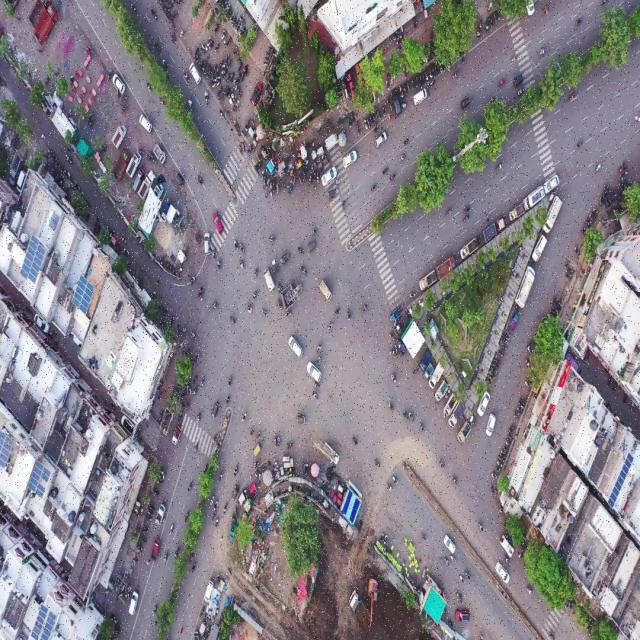3W: (251, 440, 266, 462), (294, 407, 307, 430), (174, 170, 189, 189), (459, 93, 473, 112), (325, 187, 339, 205), (305, 237, 318, 255), (512, 70, 525, 88), (280, 247, 292, 265), (210, 399, 221, 418), (230, 483, 240, 500)
Cars: (286, 337, 308, 362), (532, 234, 547, 266), (492, 561, 512, 584), (484, 412, 500, 438), (211, 208, 225, 237), (304, 361, 324, 381), (499, 534, 515, 557), (441, 534, 460, 553), (477, 391, 490, 416), (543, 174, 560, 193), (201, 228, 211, 260), (341, 149, 357, 168), (250, 82, 263, 105), (320, 168, 336, 186), (203, 578, 215, 602), (189, 62, 202, 84), (413, 88, 428, 107), (452, 608, 472, 622), (391, 88, 401, 116), (128, 590, 138, 617), (138, 114, 152, 133), (113, 74, 126, 94), (374, 130, 387, 149), (168, 169, 169, 170)
LCV: (515, 265, 537, 307), (544, 196, 564, 232), (138, 169, 154, 201), (523, 186, 545, 209), (436, 254, 455, 279), (323, 442, 340, 466), (429, 362, 443, 391), (449, 403, 465, 428), (458, 238, 477, 259), (418, 270, 437, 291), (434, 378, 450, 402), (317, 279, 333, 303), (150, 538, 164, 565), (127, 151, 141, 177), (153, 141, 167, 164), (155, 498, 166, 527), (458, 420, 471, 444), (112, 123, 127, 143), (394, 315, 409, 335), (418, 350, 432, 370), (264, 268, 276, 291), (443, 394, 455, 416), (509, 203, 525, 219), (507, 313, 519, 332), (325, 133, 338, 150), (389, 307, 402, 323), (395, 338, 407, 355), (172, 426, 182, 446), (424, 364, 434, 380)
M2W: (566, 90, 577, 104), (194, 409, 202, 427), (536, 47, 548, 59), (442, 555, 452, 569), (199, 372, 206, 392), (573, 16, 583, 30), (232, 461, 240, 478), (327, 319, 336, 333), (350, 434, 360, 446), (497, 76, 507, 88), (455, 592, 464, 605), (228, 314, 237, 327), (511, 54, 520, 67), (373, 458, 381, 472), (195, 172, 202, 188), (154, 42, 162, 56), (146, 80, 154, 94), (168, 521, 175, 537), (151, 602, 158, 618), (309, 226, 319, 237), (385, 481, 394, 493), (313, 343, 322, 355), (401, 137, 410, 149), (389, 171, 398, 183), (547, 628, 556, 640), (438, 456, 445, 471), (417, 419, 424, 434), (183, 510, 190, 525), (201, 460, 208, 475), (458, 572, 466, 585), (450, 475, 458, 488), (311, 381, 321, 391), (575, 141, 585, 151), (268, 234, 277, 245), (444, 208, 453, 219), (464, 570, 472, 582), (450, 554, 458, 566), (227, 374, 233, 390), (217, 470, 225, 482), (409, 410, 416, 423), (346, 309, 353, 322), (246, 302, 253, 315), (261, 306, 268, 319), (297, 246, 304, 259), (232, 239, 239, 252), (187, 97, 194, 110), (161, 57, 168, 70), (173, 545, 180, 558), (517, 85, 524, 98), (211, 430, 217, 445), (242, 411, 248, 426), (248, 426, 257, 436), (397, 154, 407, 163), (462, 205, 471, 215), (462, 214, 471, 224), (495, 162, 504, 172), (107, 68, 113, 83), (475, 27, 481, 42), (477, 522, 485, 533), (360, 303, 368, 314), (277, 299, 283, 313), (252, 289, 259, 301), (225, 394, 232, 406), (186, 479, 192, 493), (595, 163, 602, 175), (204, 92, 210, 106), (333, 306, 341, 316), (217, 257, 222, 273), (170, 10, 178, 20), (488, 96, 496, 106), (151, 8, 157, 21), (163, 550, 169, 563), (214, 517, 220, 530), (223, 501, 229, 514), (192, 442, 198, 455), (370, 181, 376, 194), (527, 585, 533, 598), (233, 45, 239, 58), (300, 264, 307, 275), (159, 97, 166, 108), (477, 629, 484, 640), (390, 373, 396, 385), (388, 402, 394, 414), (211, 301, 220, 309), (504, 555, 512, 564), (240, 129, 248, 138), (68, 74, 74, 86), (209, 38, 215, 50), (226, 35, 232, 47), (451, 71, 459, 80), (277, 278, 282, 292), (192, 559, 197, 573), (524, 379, 531, 389), (341, 198, 346, 212), (194, 54, 201, 64), (399, 85, 404, 99), (392, 475, 398, 486), (183, 71, 189, 82), (211, 510, 217, 521), (229, 13, 235, 24), (217, 86, 223, 97), (324, 154, 330, 165), (254, 265, 259, 278), (485, 21, 490, 34), (121, 103, 129, 111), (420, 532, 427, 541), (492, 357, 501, 364), (131, 3, 138, 12), (387, 333, 396, 340), (403, 409, 408, 421), (239, 260, 245, 270), (210, 494, 215, 506), (255, 429, 261, 439), (382, 165, 388, 175), (286, 180, 292, 190), (86, 113, 92, 123), (214, 42, 220, 52), (214, 22, 219, 34), (221, 29, 226, 41), (224, 54, 230, 64), (193, 46, 198, 58), (229, 72, 234, 84), (238, 62, 244, 72), (236, 73, 242, 83), (247, 146, 253, 156), (493, 11, 497, 26), (491, 472, 498, 480), (517, 401, 525, 408), (409, 291, 416, 299), (139, 537, 147, 544), (317, 353, 323, 362), (513, 411, 519, 420), (288, 187, 294, 196), (260, 170, 264, 183), (237, 86, 241, 99), (234, 18, 238, 31), (348, 117, 352, 130), (386, 80, 390, 93), (382, 105, 386, 118), (373, 105, 377, 118), (490, 16, 494, 29), (214, 500, 219, 510), (298, 175, 303, 185), (227, 59, 232, 69), (225, 73, 230, 83), (199, 60, 204, 70), (311, 393, 318, 400), (121, 95, 128, 102), (202, 44, 209, 51), (429, 81, 436, 88), (495, 462, 503, 468), (499, 449, 507, 455), (502, 446, 510, 452), (490, 362, 498, 368), (282, 182, 286, 194), (266, 179, 270, 191), (263, 175, 267, 187), (90, 116, 94, 128), (239, 24, 243, 36), (312, 170, 316, 182), (387, 97, 391, 109), (377, 109, 381, 121), (436, 63, 440, 75), (500, 338, 509, 343), (502, 330, 511, 335), (219, 58, 224, 67), (477, 233, 481, 244), (208, 67, 212, 78), (495, 467, 501, 474), (504, 440, 511, 446), (516, 406, 523, 412), (501, 346, 508, 352), (498, 351, 505, 357), (490, 367, 497, 373), (416, 74, 419, 88), (142, 529, 148, 536), (146, 510, 153, 516), (145, 516, 152, 522), (213, 65, 217, 75), (217, 77, 221, 87), (203, 61, 207, 71), (212, 79, 216, 89), (276, 182, 279, 195), (273, 180, 276, 193), (238, 142, 241, 155), (242, 141, 245, 154), (316, 171, 319, 184), (419, 75, 422, 88), (207, 34, 210, 46), (217, 67, 220, 79), (234, 79, 237, 91), (357, 124, 360, 136), (351, 113, 354, 125), (367, 118, 370, 130), (369, 113, 372, 125), (407, 81, 410, 93), (411, 77, 414, 89), (497, 457, 504, 462), (303, 170, 306, 181), (270, 181, 273, 192), (374, 122, 377, 133), (423, 75, 426, 86), (293, 176, 296, 186), (433, 68, 436, 78), (430, 68, 432, 81), (241, 73, 244, 81)
Truck: (348, 591, 373, 633), (35, 1, 56, 45), (113, 148, 128, 181)
